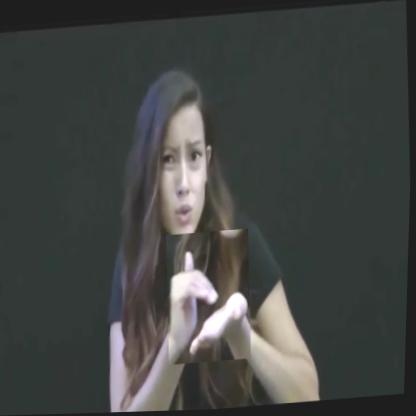ExcuseMe: (164, 230, 256, 366)
